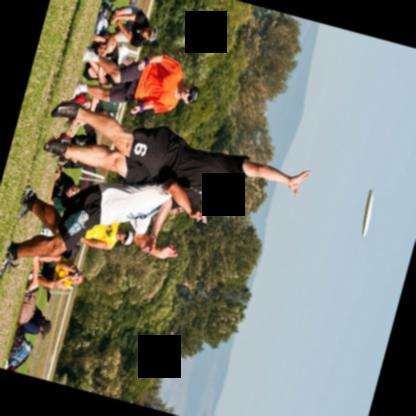backpack: (6, 336, 32, 371)
